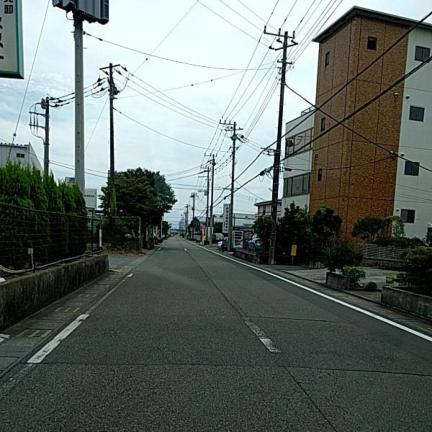Road: (0, 238, 431, 431)
